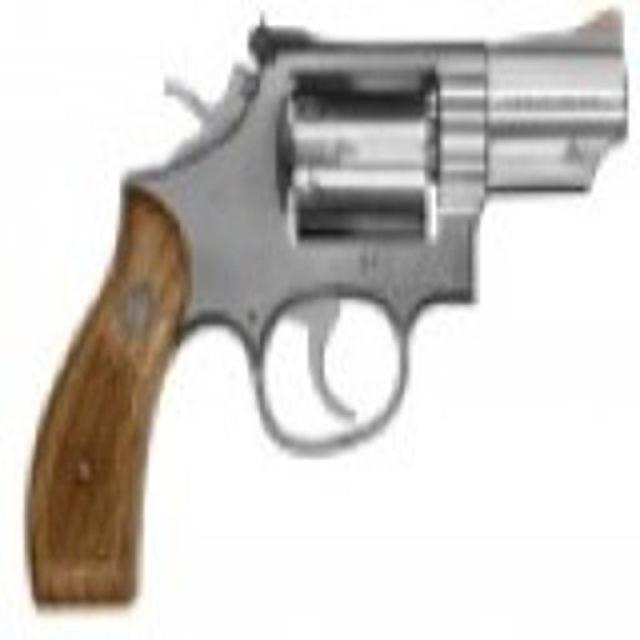pistol: (27, 5, 627, 602)
